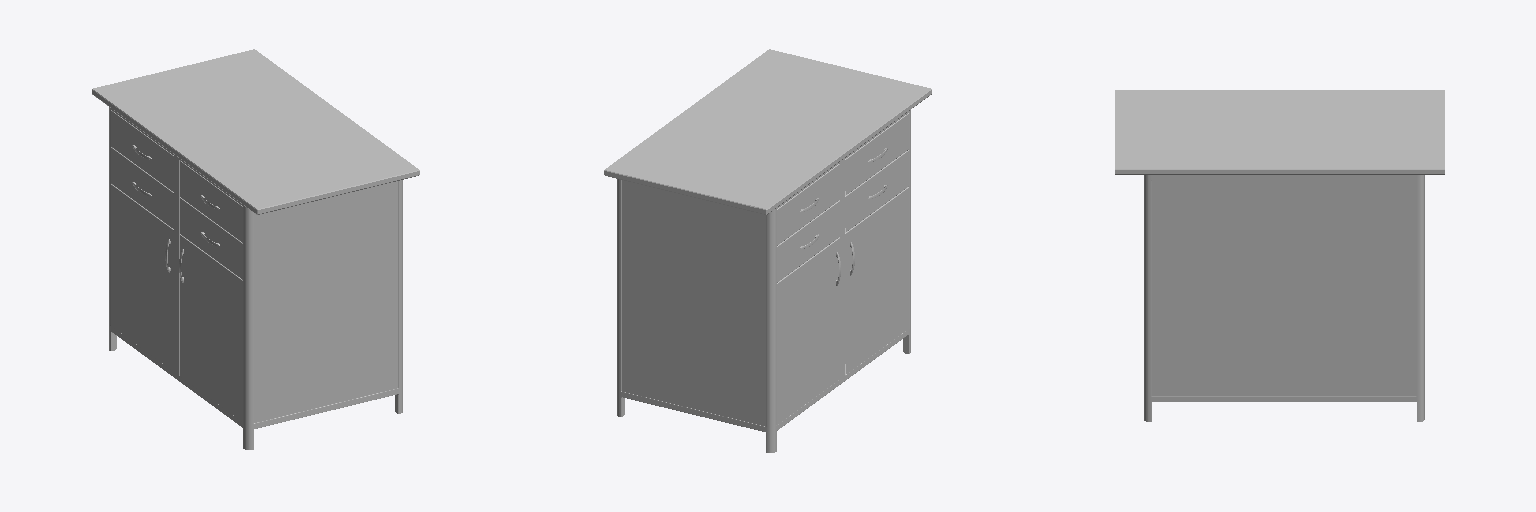
File: table.obj
3 renders of one model, left to right at view 1: azimuth 30°, elevation 25°; view 2: azimuth 150°, elevation 25°; view 3: azimuth 270°, elevation 25°, orthographic.
Visible parts, largest first — view 1: Archmodels_0, Archmodel0_1, Archmodel1_2; view 2: Archmodels_0, Archmodel0_1, Archmodel1_2; view 3: Archmodels_0, Archmodel0_1, Archmodel1_2.
Boxes of the visible parts, <box> form: Archmodels_0: <box>94,50,417,422</box>; Archmodel0_1: <box>109,107,402,449</box>; Archmodel1_2: <box>92,49,419,214</box>; Archmodels_0: <box>606,50,929,426</box>; Archmodel0_1: <box>617,110,910,452</box>; Archmodel1_2: <box>604,49,931,214</box>; Archmodels_0: <box>1116,90,1443,395</box>; Archmodel0_1: <box>1144,175,1424,421</box>; Archmodel1_2: <box>1115,90,1444,174</box>.
Bounding box in the file's own units: 59.13 × 87.8 × 104.